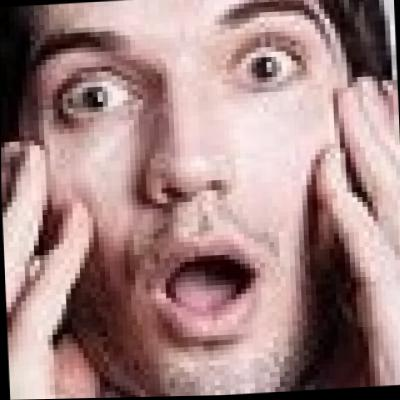surprise: (31, 0, 368, 399)
